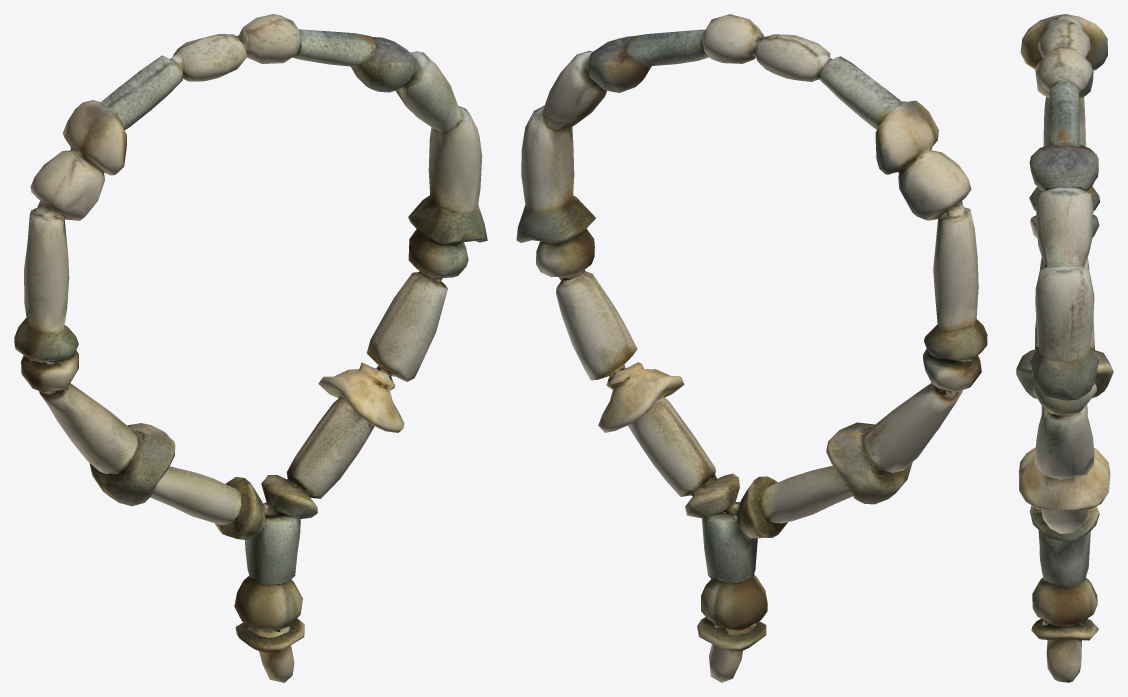
File: Jadeite_Necklace.glb
3 views of the same model, side by side, from view 1: azimuth 30°, elevation 25°; view 2: azimuth 150°, elevation 25°; view 3: azimuth 270°, elevation 25° (orthographic). The views are drawn at different scales.
Parts seen in each view (by area): view 1: Mesh1.0; view 2: Mesh1.0; view 3: Mesh1.0.
Boxes of the visible parts, x1,y1,x2,y2 form: Mesh1.0: (14, 14, 487, 682); Mesh1.0: (516, 14, 987, 682); Mesh1.0: (1016, 14, 1113, 682).
Bounding box in the file's own units: 0.3615 × 0.5 × 0.0703.
1 material, 1 textured.
